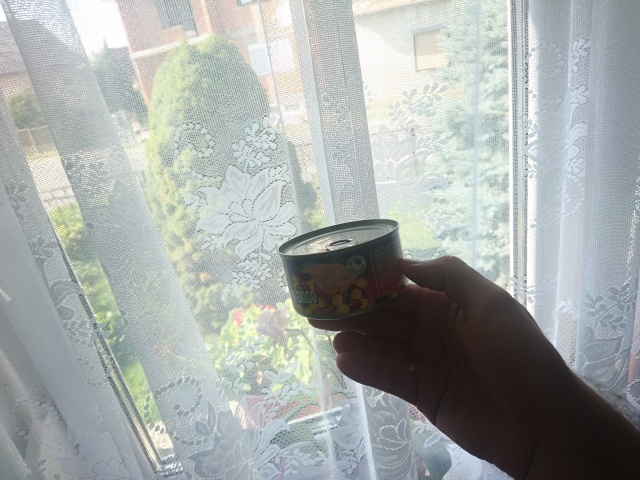Giana Tuna Salad Mexico 185g: (275, 216, 410, 323)
